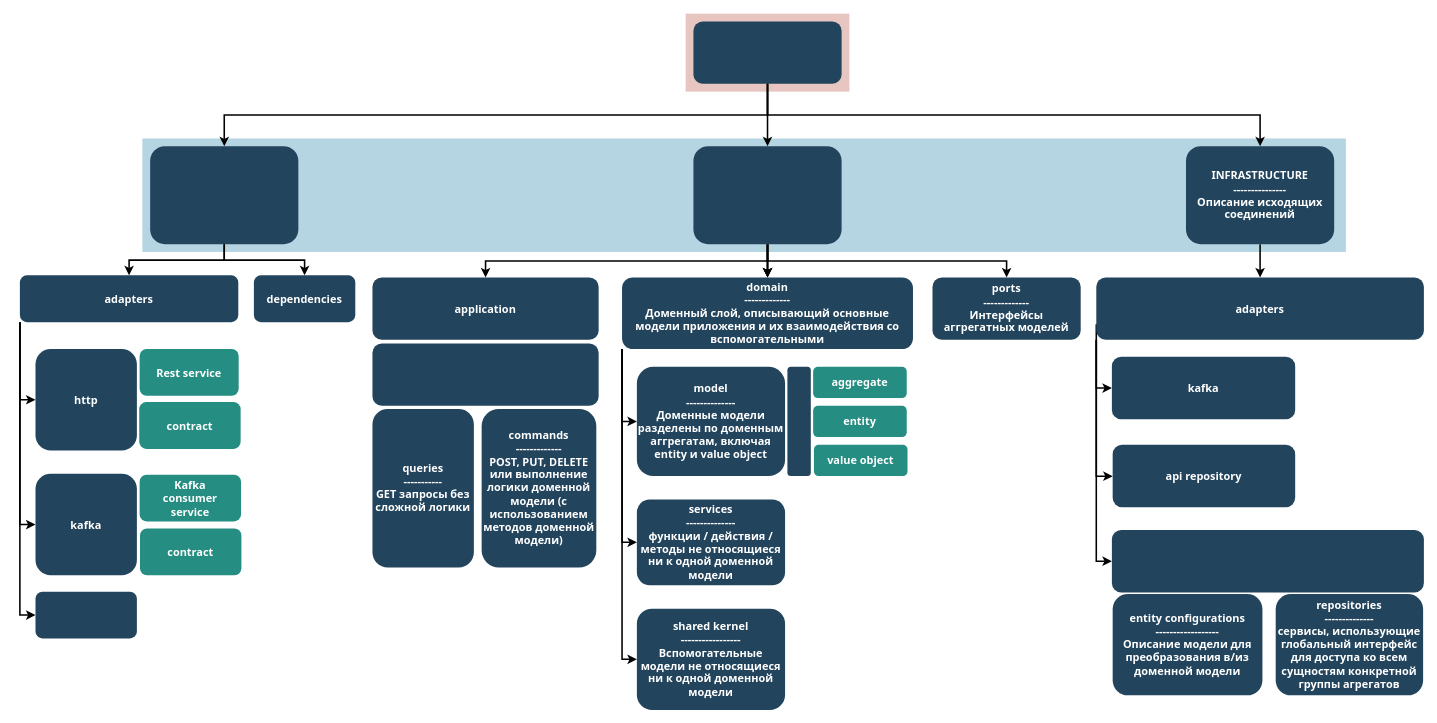
Some shapes in this 1437 by 723 pixel diagram are drawn without their labels. The box of each missing label's shape, as (x1, y1, x2, y2) in pixels:
API -------------- Описание интерфейсов для входящих соединений: (150, 146, 298, 244)
background jobs: (35, 591, 136, 638)
CORE ------------- Внутренний слой доменной модели: (693, 146, 841, 244)
DDD APP repository: (693, 21, 841, 83)
domain object: (787, 366, 810, 476)
postrges: (1112, 530, 1424, 592)
use cases: (372, 343, 598, 405)
